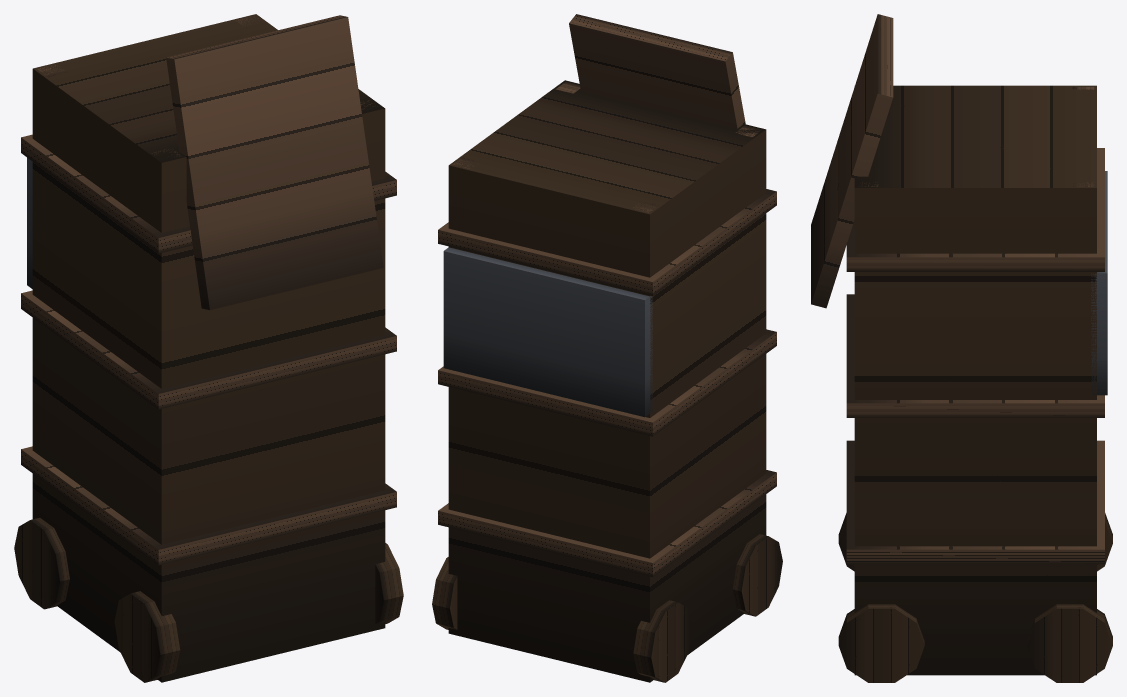
Rendered from siege_tower.gltf.
3 views of the same model, side by side, from view 1: azimuth 30°, elevation 25°; view 2: azimuth 150°, elevation 25°; view 3: azimuth 270°, elevation 25° (orthographic). The views are drawn at different scales.
Visible parts, largest first — view 1: siege_tower; view 2: siege_tower; view 3: siege_tower.
Part boxes in pixels (<box>): siege_tower: <box>14,14,403,682</box>; siege_tower: <box>432,14,782,682</box>; siege_tower: <box>811,14,1112,682</box>.
Bounding box in the file's own units: 0.98 × 2.35 × 1.12.
Materials: 1 (1 with a texture image).
